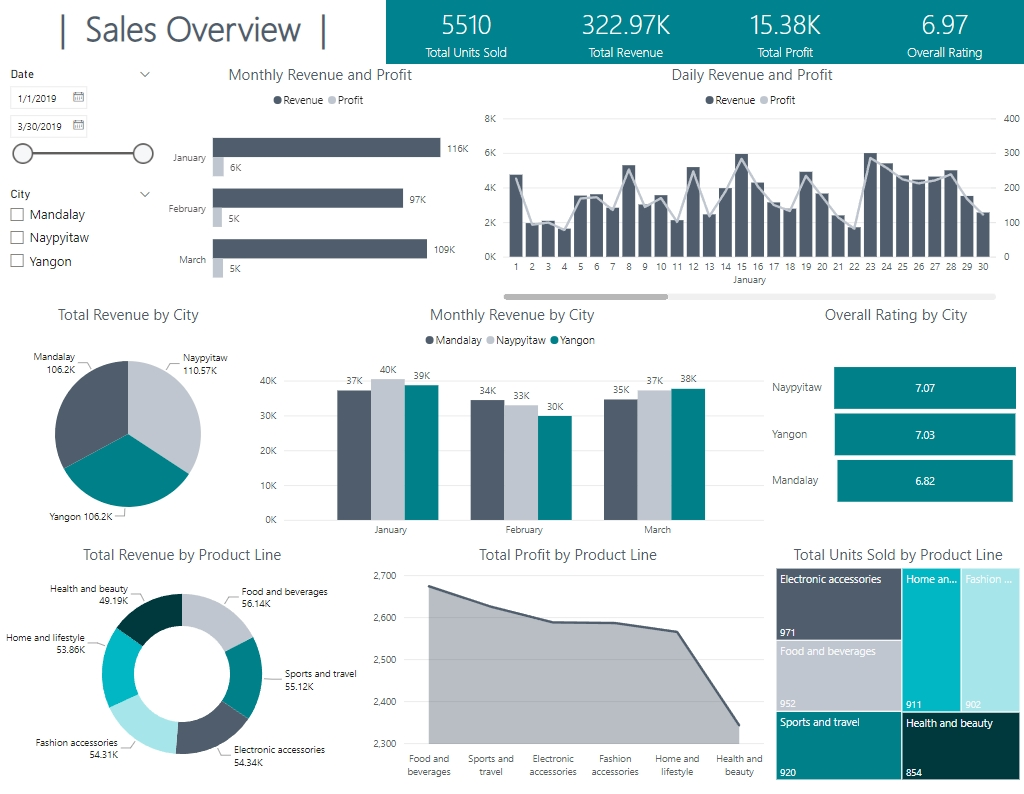

This screenshot's page, from the dashboard's own definition file:
{"tool":"powerbi","page":{"name":"Page 1","canvas":[1280,1024],"ordinal":0},"visuals":[{"type":"card","fields":{"Values":["Sum(portfolioproject sales.Quantity)"]},"box":[482.7,0,200,80.2],"z":0},{"type":"card","fields":{"Values":["Sum(portfolioproject sales.Revenue)"]},"box":[682.7,0,198.7,80.2],"z":1000},{"type":"card","fields":{"Values":["Sum(portfolioproject sales.Profit)"]},"box":[881.4,0,200,80.2],"z":2000},{"type":"textbox","box":[0,0,482.7,80.2],"z":3000},{"type":"pieChart","title":"Total Revenue by City","fields":{"Y":["Sum(portfolioproject sales.Revenue)"],"Category":["portfolioproject sales.City"]},"box":[0,380.3,320,300],"z":4000},{"type":"slicer","fields":{"Values":["portfolioproject sales.City"]},"box":[0,230.2,200,150],"z":5000},{"type":"clusteredColumnChart","title":"Monthly Revenue by City","fields":{"Category":["portfolioproject sales.Date.Variation.Date Hierarchy.Month"],"Y":["Sum(portfolioproject sales.Revenue)"],"Series":["portfolioproject sales.City"]},"box":[320,380,640,300],"z":6000},{"type":"funnel","title":"Overall Rating by City","fields":{"Category":["portfolioproject sales.City"],"Y":["Avg(portfolioproject sales.Rating)"]},"box":[960.3,380.3,319.7,300],"z":8000},{"type":"lineClusteredColumnComboChart","title":"Daily Revenue and Profit","fields":{"Category":["portfolioproject sales.Date.Variation.Date Hierarchy.Month","portfolioproject sales.Date.Variation.Date Hierarchy.Day"],"Y":["Sum(portfolioproject sales.Revenue)"],"Y2":["Sum(portfolioproject sales.Profit)"]},"box":[600,80,680,300],"z":9000},{"type":"slicer","fields":{"Values":["portfolioproject sales.Date"]},"box":[0,80.2,200,150],"z":10000},{"type":"clusteredBarChart","title":"Monthly Revenue and Profit","fields":{"Category":["portfolioproject sales.Date.Variation.Date Hierarchy.Month"],"Y":["Sum(portfolioproject sales.Revenue)","Sum(portfolioproject sales.Profit)"]},"box":[200,79.7,399.9,300],"z":11000},{"type":"card","fields":{"Values":["Avg(portfolioproject sales.Rating)"]},"box":[1081.3,0,198.7,80.2],"z":13000},{"type":"donutChart","title":"Total Revenue by Product Line","fields":{"Category":["portfolioproject sales.ProductLine"],"Y":["Sum(portfolioproject sales.Revenue)"]},"box":[0,680,455,300],"z":14000},{"type":"areaChart","title":"Total Profit by Product Line","fields":{"Y":["Sum(portfolioproject sales.Profit)"],"Category":["portfolioproject sales.ProductLine"]},"box":[455,680,510,300],"z":15000},{"type":"treemap","title":"Total Units Sold by Product Line","fields":{"Group":["portfolioproject sales.ProductLine"],"Values":["Sum(portfolioproject sales.Quantity)"]},"box":[965,680,315,300],"z":16000}]}

Visuals, with their boxes on the page's 1280x1024 design canvas (x1, y1, x2, y2). These are canvas units, not pixel positions in the 1024x794 screenshot, which may show the page scaled, cropped or inside an application window:
card - Sum(portfolioproject sales.Quantity): bbox(483, 0, 683, 80)
card - Sum(portfolioproject sales.Revenue): bbox(683, 0, 881, 80)
card - Sum(portfolioproject sales.Profit): bbox(881, 0, 1081, 80)
textbox: bbox(0, 0, 483, 80)
"Total Revenue by City" pieChart: bbox(0, 380, 320, 680)
slicer - portfolioproject sales.City: bbox(0, 230, 200, 380)
"Monthly Revenue by City" clusteredColumnChart: bbox(320, 380, 960, 680)
"Overall Rating by City" funnel: bbox(960, 380, 1280, 680)
"Daily Revenue and Profit" lineClusteredColumnComboChart: bbox(600, 80, 1280, 380)
slicer - portfolioproject sales.Date: bbox(0, 80, 200, 230)
"Monthly Revenue and Profit" clusteredBarChart: bbox(200, 80, 600, 380)
card - Avg(portfolioproject sales.Rating): bbox(1081, 0, 1280, 80)
"Total Revenue by Product Line" donutChart: bbox(0, 680, 455, 980)
"Total Profit by Product Line" areaChart: bbox(455, 680, 965, 980)
"Total Units Sold by Product Line" treemap: bbox(965, 680, 1280, 980)
